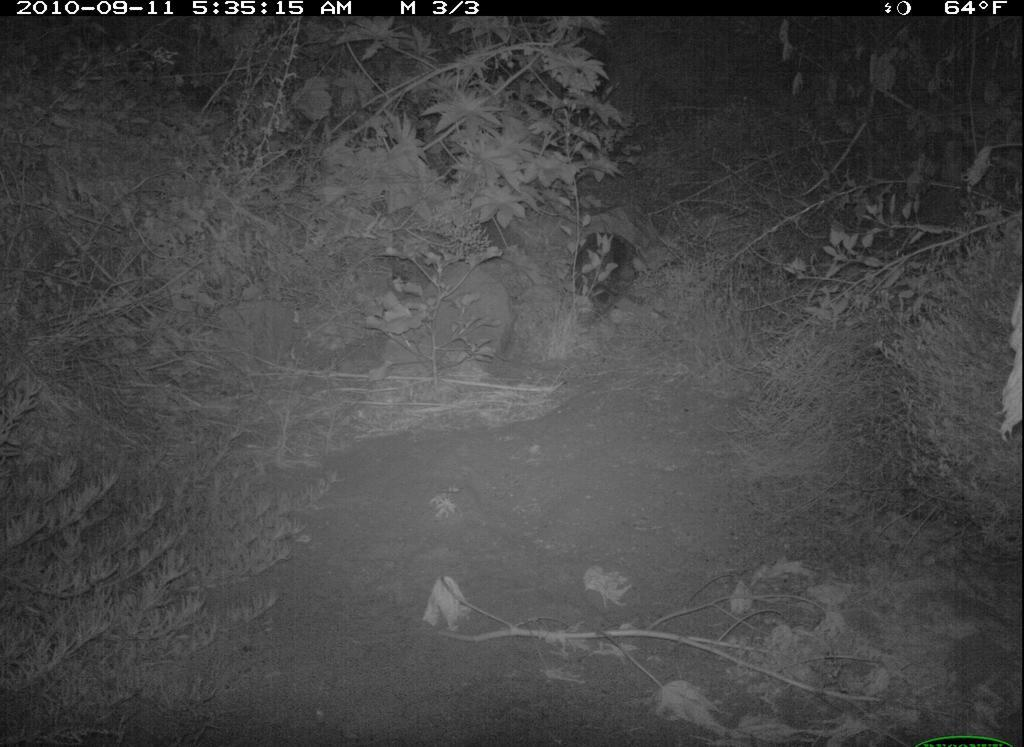raccoon: (565, 228, 649, 326)
